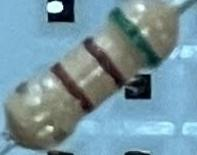Black: (77, 34, 131, 91)
Brown: (48, 61, 97, 116)
Green: (105, 3, 167, 69)
Side-Silver: (12, 79, 74, 146)
